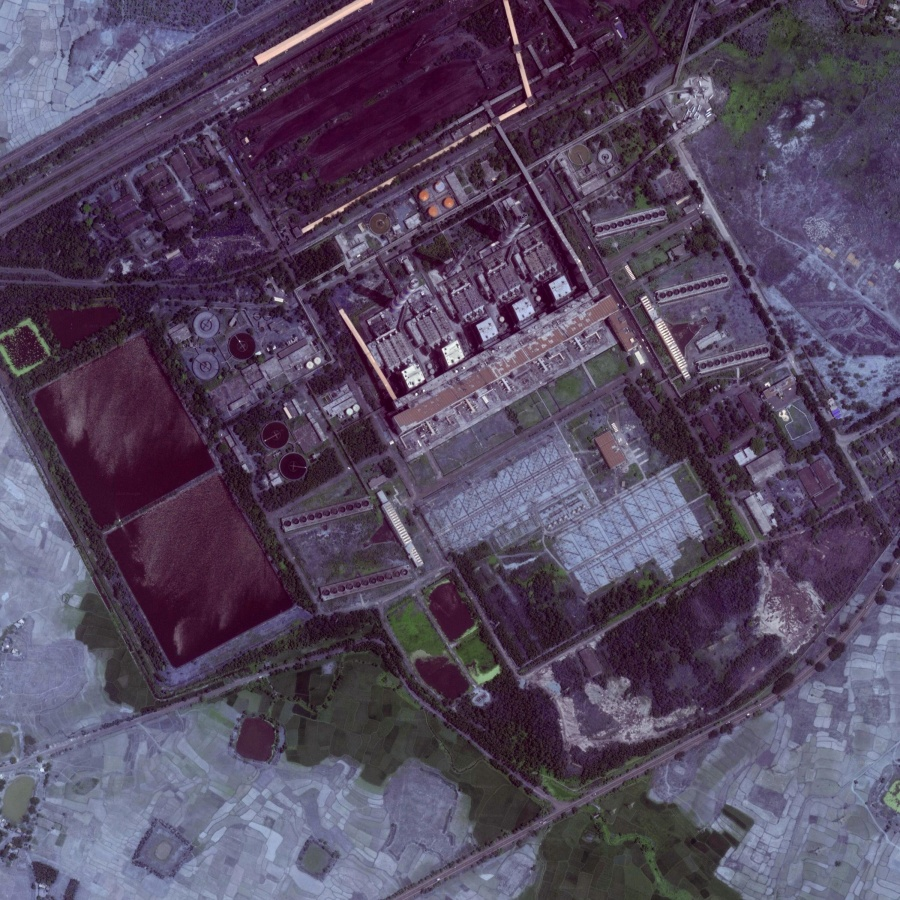PowerPlant: (5, 309, 368, 712)
